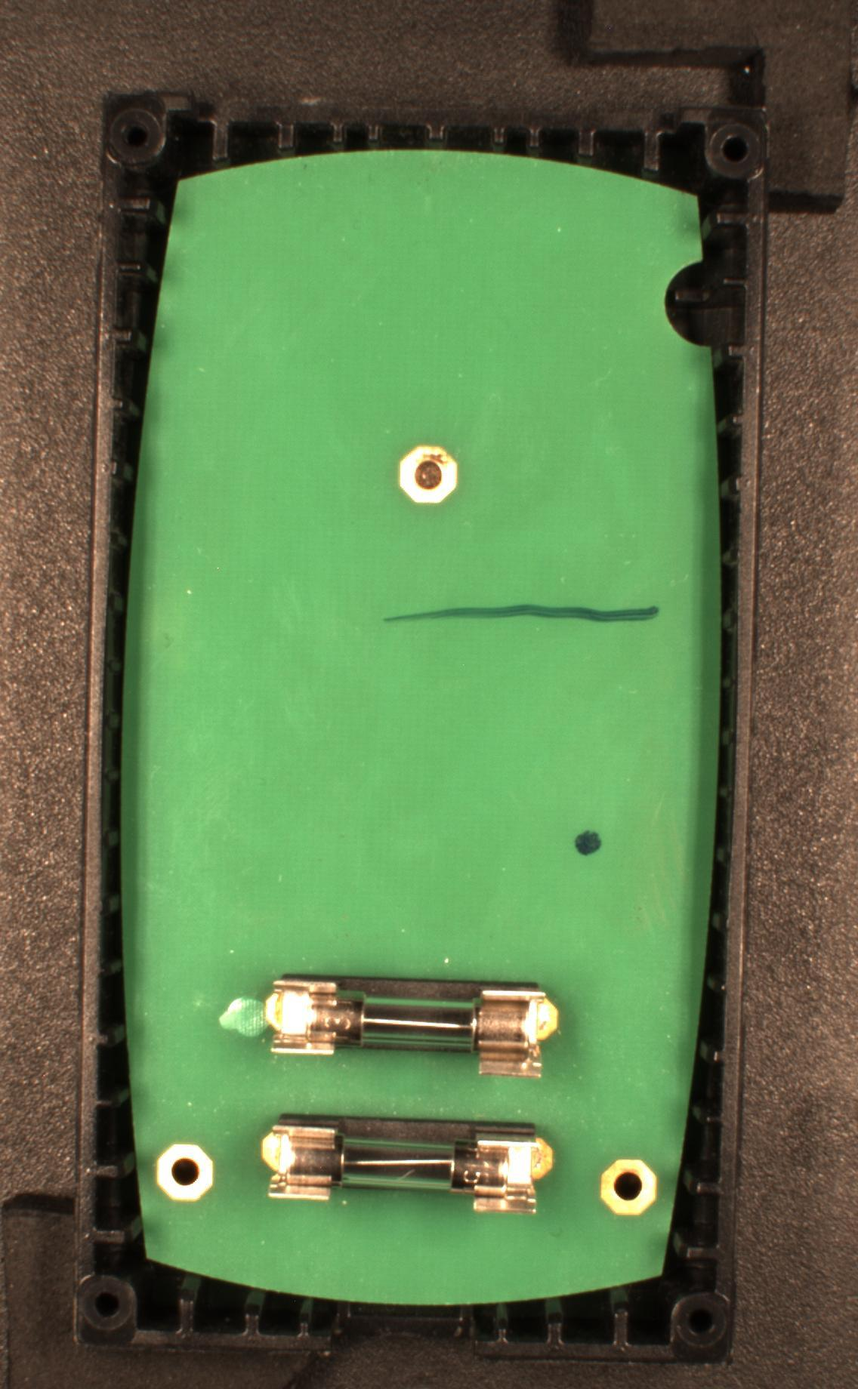Linijsko Ostecene: (381, 605, 662, 631)
Tockasto Ostecenje: (574, 829, 602, 858)
